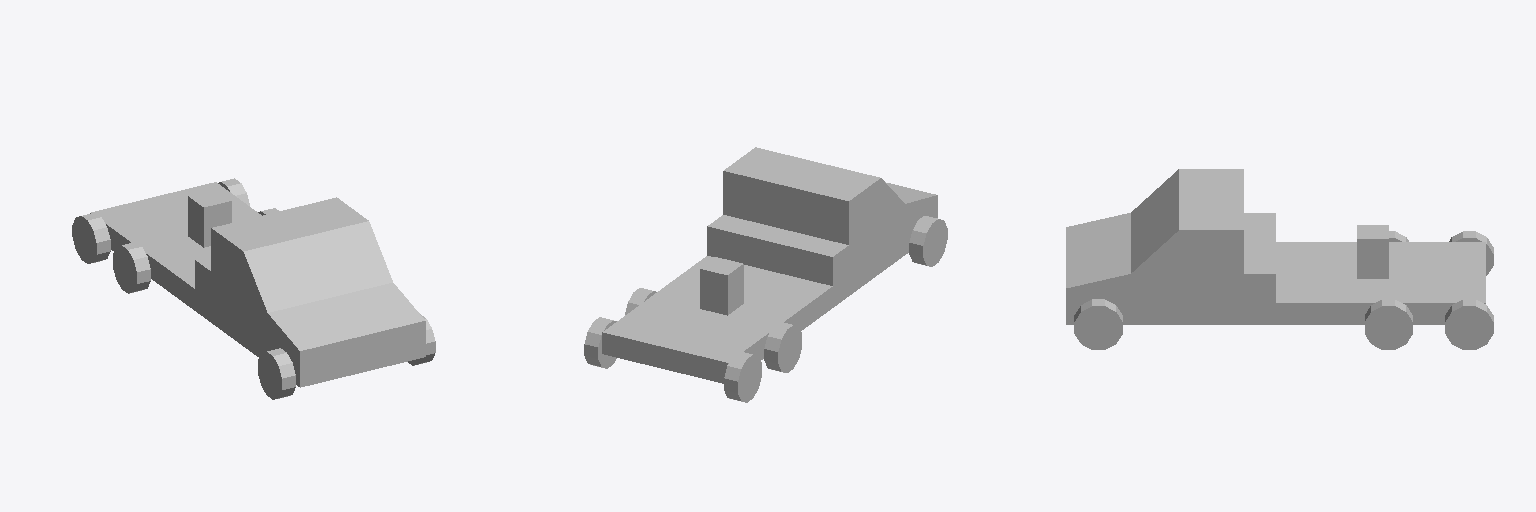
Rendered from artilleryBase.obj.
3 views of the same model, side by side, from view 1: azimuth 30°, elevation 25°; view 2: azimuth 150°, elevation 25°; view 3: azimuth 270°, elevation 25° (orthographic).
Parts seen in each view (by area): view 1: cuboid, cylinder, cube; view 2: cuboid, cube, cylinder; view 3: cuboid, cylinder, cube.
Boxes of the visible parts, box(x1,y1,x2,y2) form: cuboid: box(90, 182, 425, 387); cylinder: box(72, 178, 435, 399); cube: box(188, 189, 231, 299); cuboid: box(602, 147, 937, 383); cube: box(700, 215, 848, 315); cylinder: box(584, 216, 947, 402); cuboid: box(1066, 169, 1485, 324); cylinder: box(1074, 231, 1493, 349); cube: box(1244, 213, 1388, 302).
Size of the model in its own units: 0.6875 by 0.4844 by 1.66.